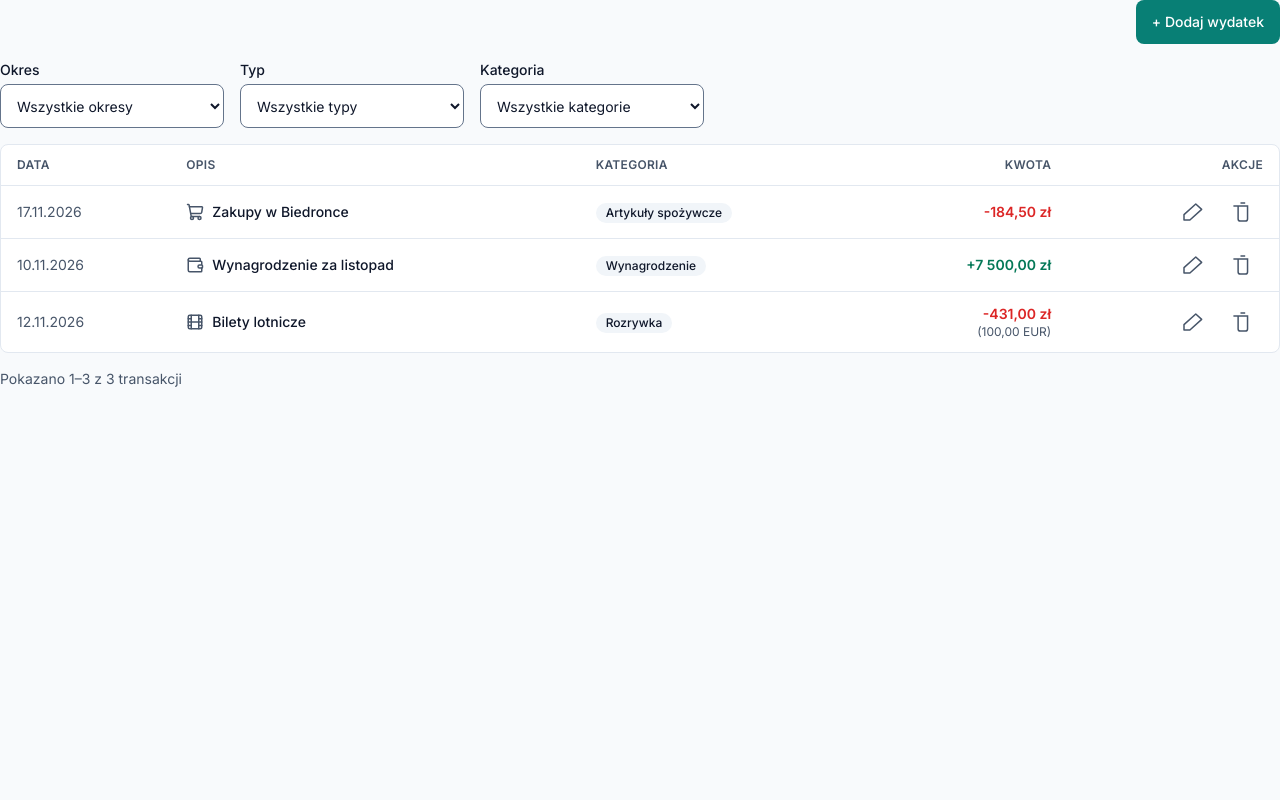
Test case: TransactionsView › shows the NBP rate hint for a foreign currency in the create dialog and removes it for PLN
The image size is (1280, 800).
Step 1. Click the button "+ Dodaj wydatek" → (1208, 22), box [1136,0,1279,44]
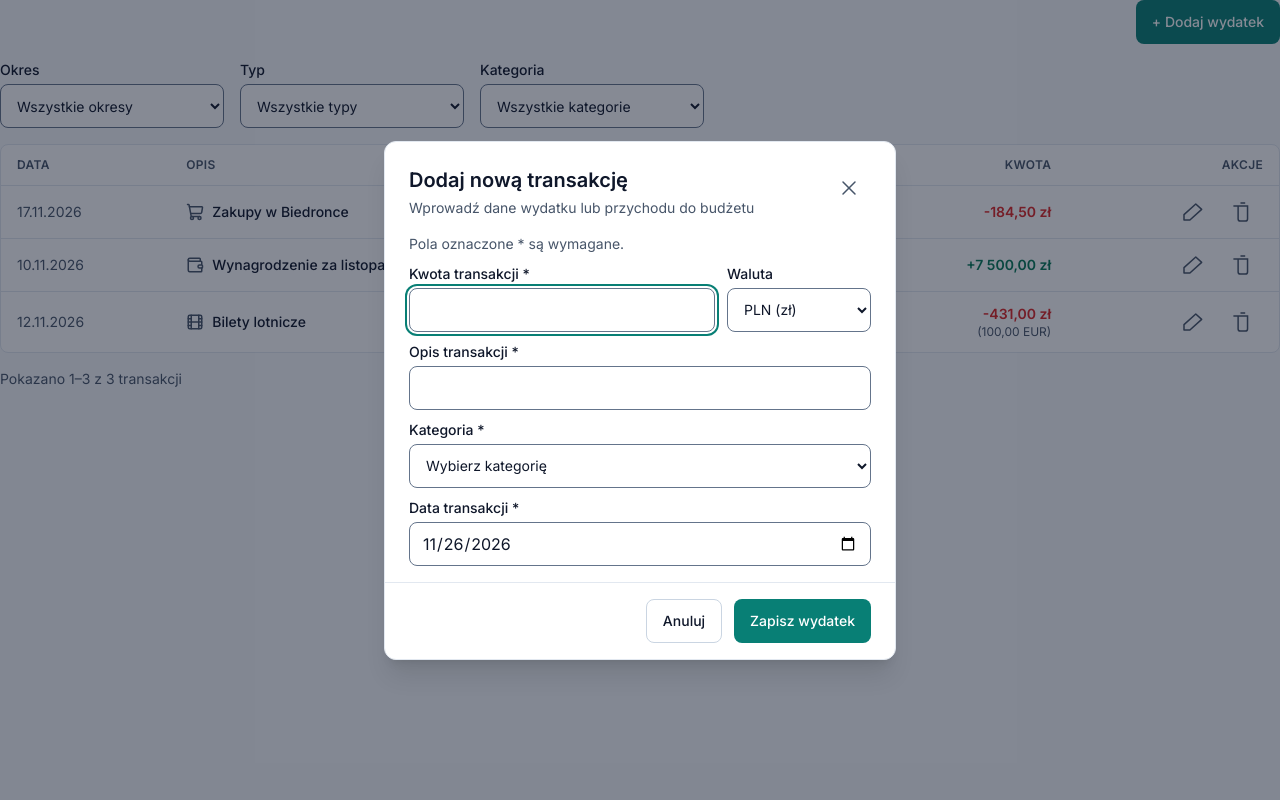
Step 2. Select "EUR (€)" in the dropdown labelled "Waluta" → (799, 310), box [727,288,871,332]
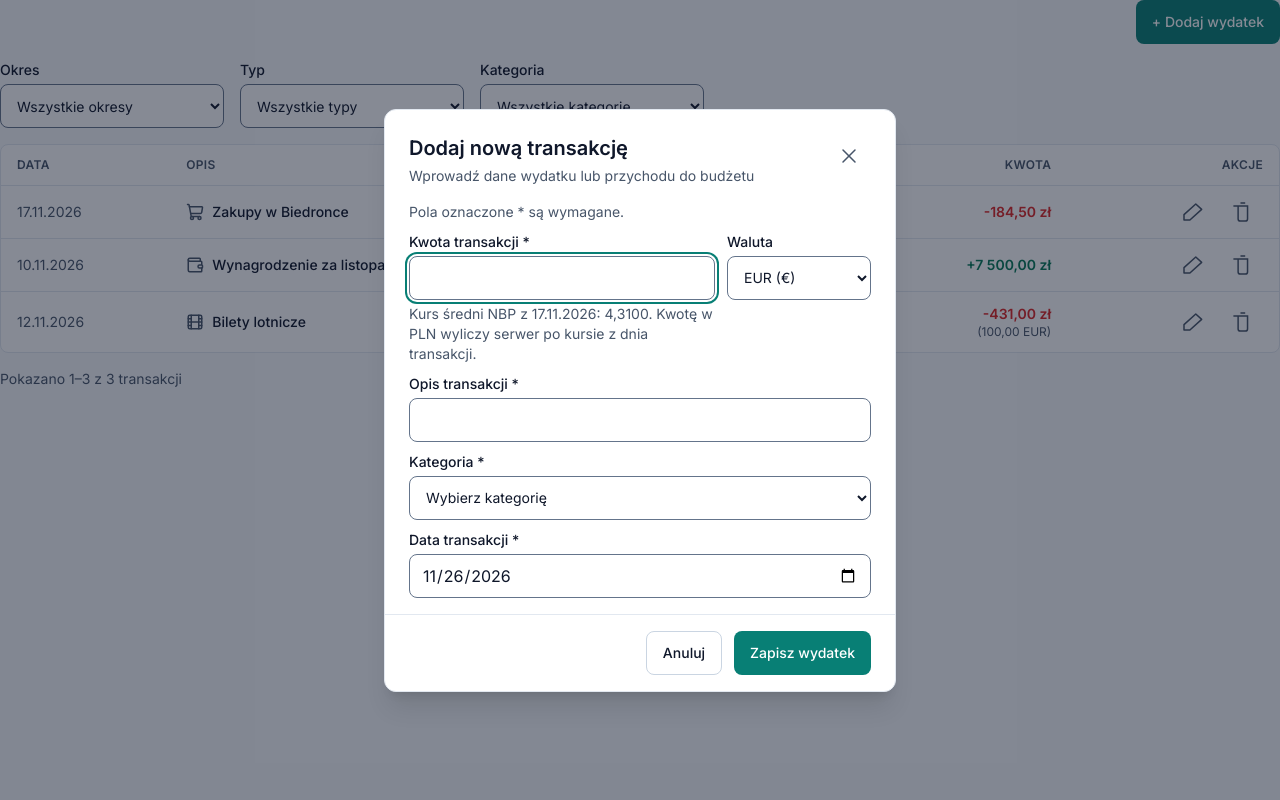
Step 3. Select "PLN (zł)" in the dropdown labelled "Waluta" → (799, 278), box [727,256,871,300]
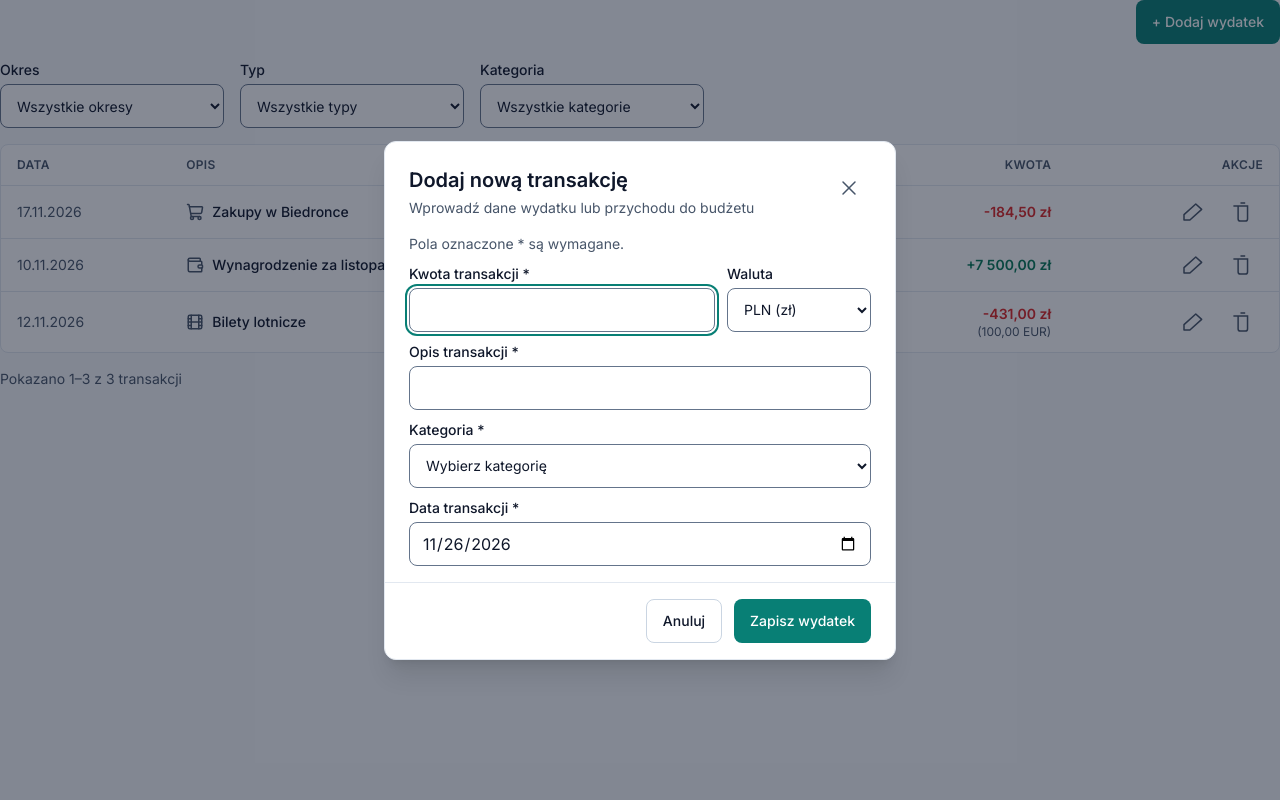
Expected: the text "NBP" is gone
